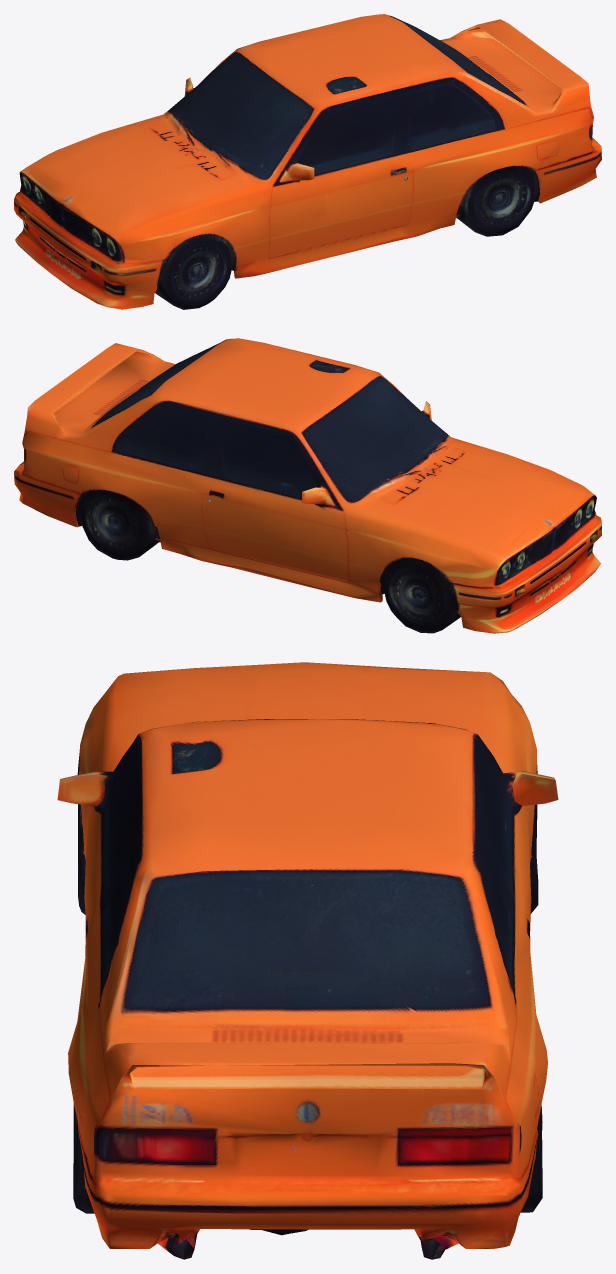
Rendered from kart2.glb.
3 renders of one model, top to bottom at view 1: azimuth 30°, elevation 25°; view 2: azimuth 150°, elevation 25°; view 3: azimuth 270°, elevation 25°, orthographic. The views are drawn at different scales.
Parts seen in each view (by area): view 1: Mesh_LOD2; view 2: Mesh_LOD2; view 3: Mesh_LOD2.
Boxes of the visible parts, bbox=[...] form: Mesh_LOD2: bbox=[14, 14, 601, 309]; Mesh_LOD2: bbox=[14, 338, 601, 633]; Mesh_LOD2: bbox=[57, 662, 558, 1259].
Size of the model in its own units: 1.9 by 0.5911 by 0.8171.
Materials: 1 (1 with a texture image).
